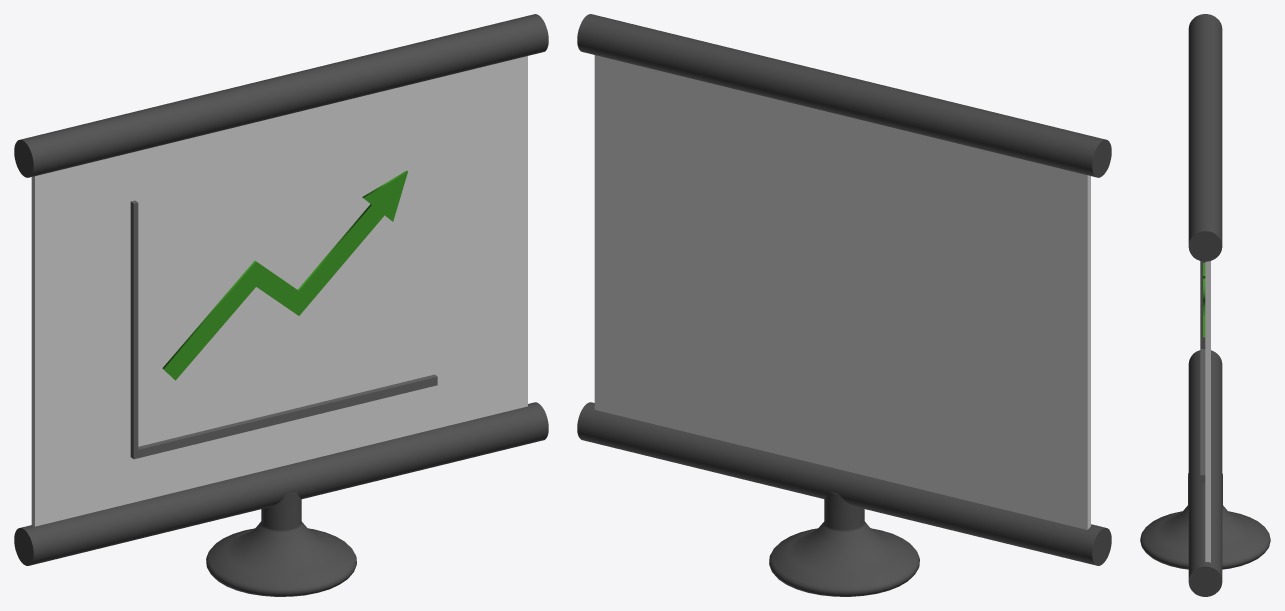
The model's file is DigitalM-transformed.glb.
3 renders of one model, left to right at view 1: azimuth 30°, elevation 25°; view 2: azimuth 150°, elevation 25°; view 3: azimuth 270°, elevation 25°, orthographic. The views are drawn at different scales.
Parts seen in each view (by area): view 1: Plane_3, Iron.002_2, Chart.001_4, Line_1; view 2: Plane_3, Iron.002_2; view 3: Iron.002_2, Plane_3, Line_1, Chart.001_4.
Boxes of the visible parts, x1,y1,x2,y2 form: Plane_3: [31, 56, 527, 526]; Iron.002_2: [14, 14, 548, 596]; Chart.001_4: [162, 170, 407, 380]; Line_1: [130, 200, 437, 459]; Plane_3: [594, 55, 1090, 529]; Iron.002_2: [577, 14, 1111, 596]; Iron.002_2: [1140, 14, 1270, 596]; Plane_3: [1205, 261, 1210, 562]; Line_1: [1200, 261, 1205, 482]; Chart.001_4: [1203, 263, 1205, 337].
Bounding box in the file's own units: 1 × 0.9088 × 0.2551.
